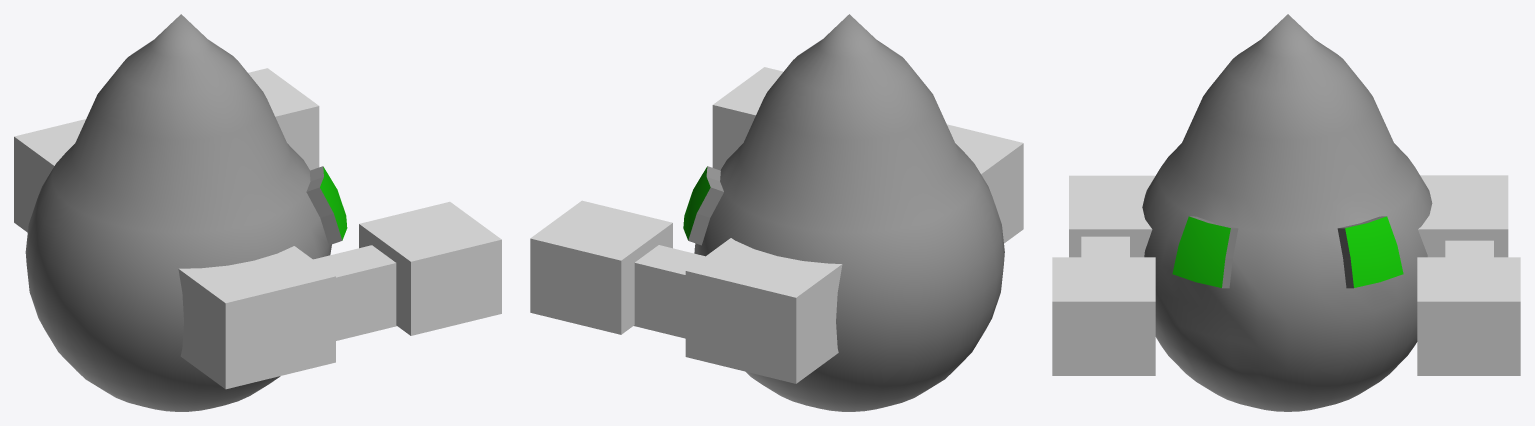
Rendered from golem.FBX.
3 renders of one model, left to right at view 1: azimuth 30°, elevation 25°; view 2: azimuth 150°, elevation 25°; view 3: azimuth 270°, elevation 25°, orthographic.
Parts seen in each view (by area): view 1: Sphere001, Box002, Box006, Box004, Box001, Box005; view 2: Sphere001, Box001, Box005, Box003, Box002, Box006; view 3: Sphere001, Box005, Box006, Box001, Box002, Box004, Box003.
Boxes of the visible parts, left/top/right/bottom form: Sphere001: left=25, top=14, right=347, bottom=411; Box002: left=178, top=246, right=335, bottom=389; Box006: left=359, top=201, right=501, bottom=335; Box004: left=313, top=245, right=396, bottom=340; Box001: left=14, top=119, right=85, bottom=232; Box005: left=248, top=68, right=319, bottom=170; Sphere001: left=683, top=14, right=1004, bottom=411; Box001: left=685, top=238, right=842, bottom=383; Box005: left=530, top=200, right=672, bottom=334; Box003: left=634, top=245, right=704, bottom=338; Box002: left=947, top=124, right=1023, bottom=243; Box006: left=712, top=67, right=783, bottom=170; Sphere001: left=1142, top=14, right=1432, bottom=411; Box005: left=1417, top=257, right=1520, bottom=375; Box006: left=1052, top=257, right=1155, bottom=375; Box001: left=1418, top=175, right=1508, bottom=257; Box002: left=1069, top=175, right=1155, bottom=257; Box004: left=1081, top=236, right=1129, bottom=257; Box003: left=1445, top=240, right=1493, bottom=257.
Size of the model in its own units: 76.27 by 82.76 by 91.63.
